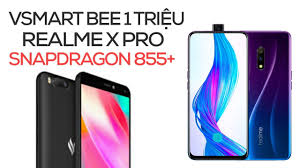vsmart: (76, 70, 134, 168), (34, 70, 79, 168)
